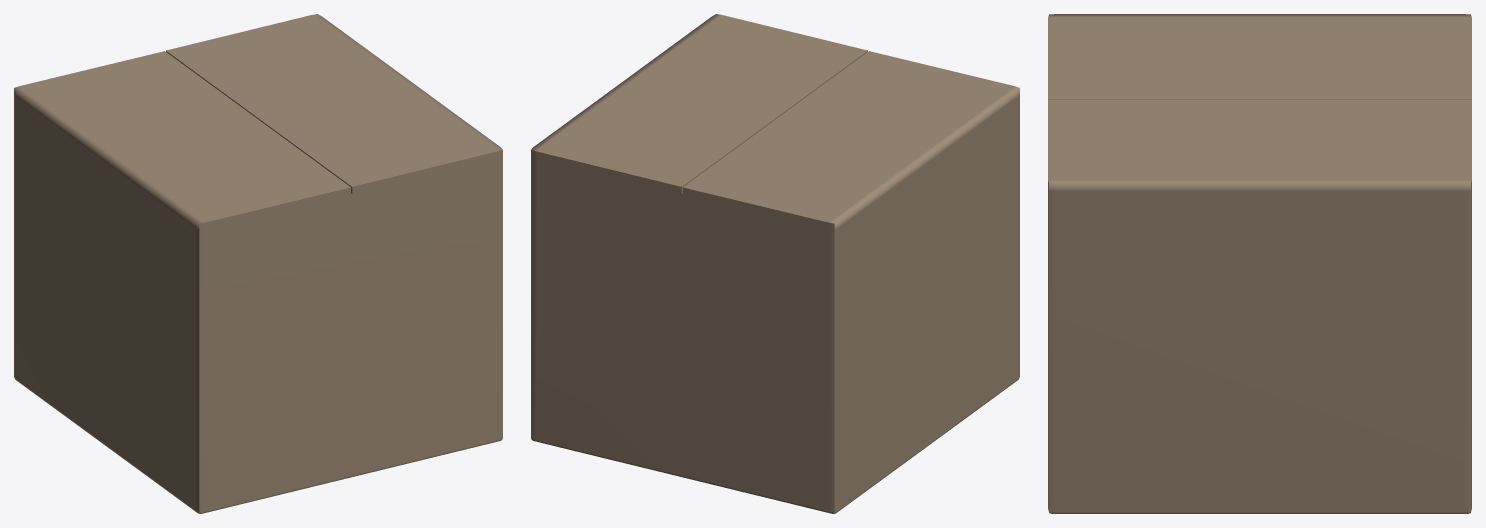
3 views of the same model, side by side, from view 1: azimuth 30°, elevation 25°; view 2: azimuth 150°, elevation 25°; view 3: azimuth 270°, elevation 25° (orthographic). The views are drawn at different scales.
Visible parts, largest first — view 1: Box01; view 2: Box01; view 3: Box01.
Boxes of the visible parts, x1,y1,x2,y2 form: Box01: (14, 14, 502, 513); Box01: (531, 14, 1019, 513); Box01: (1048, 14, 1471, 513).
Size of the model in its own units: 0.5305 by 0.4847 by 0.5608.
